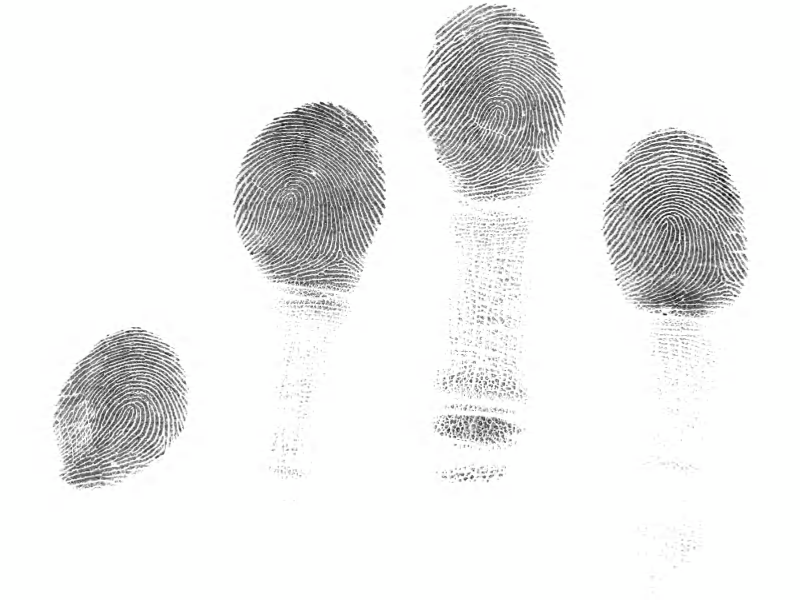D: (222, 88, 404, 297), (409, 1, 571, 203), (594, 118, 754, 316), (40, 322, 191, 500)
P: (419, 207, 546, 406), (234, 291, 357, 494), (608, 313, 739, 488)
